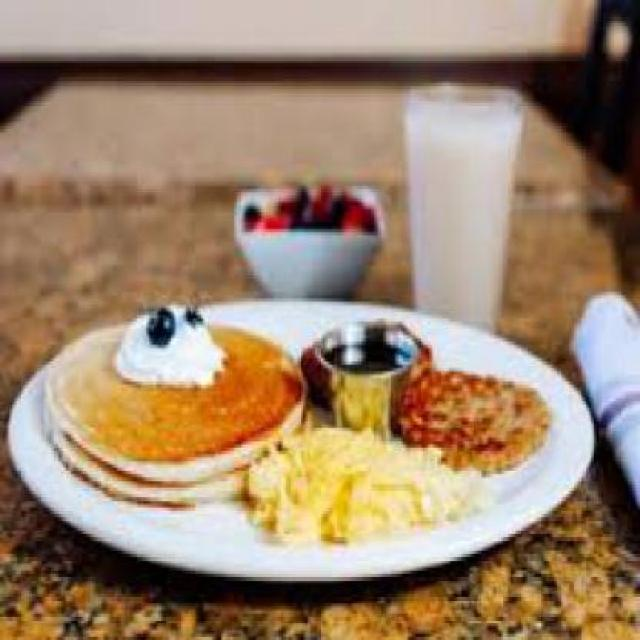ice cream: (115, 298, 227, 388)
omelette: (247, 422, 471, 530)
pancakes: (51, 328, 295, 501)
